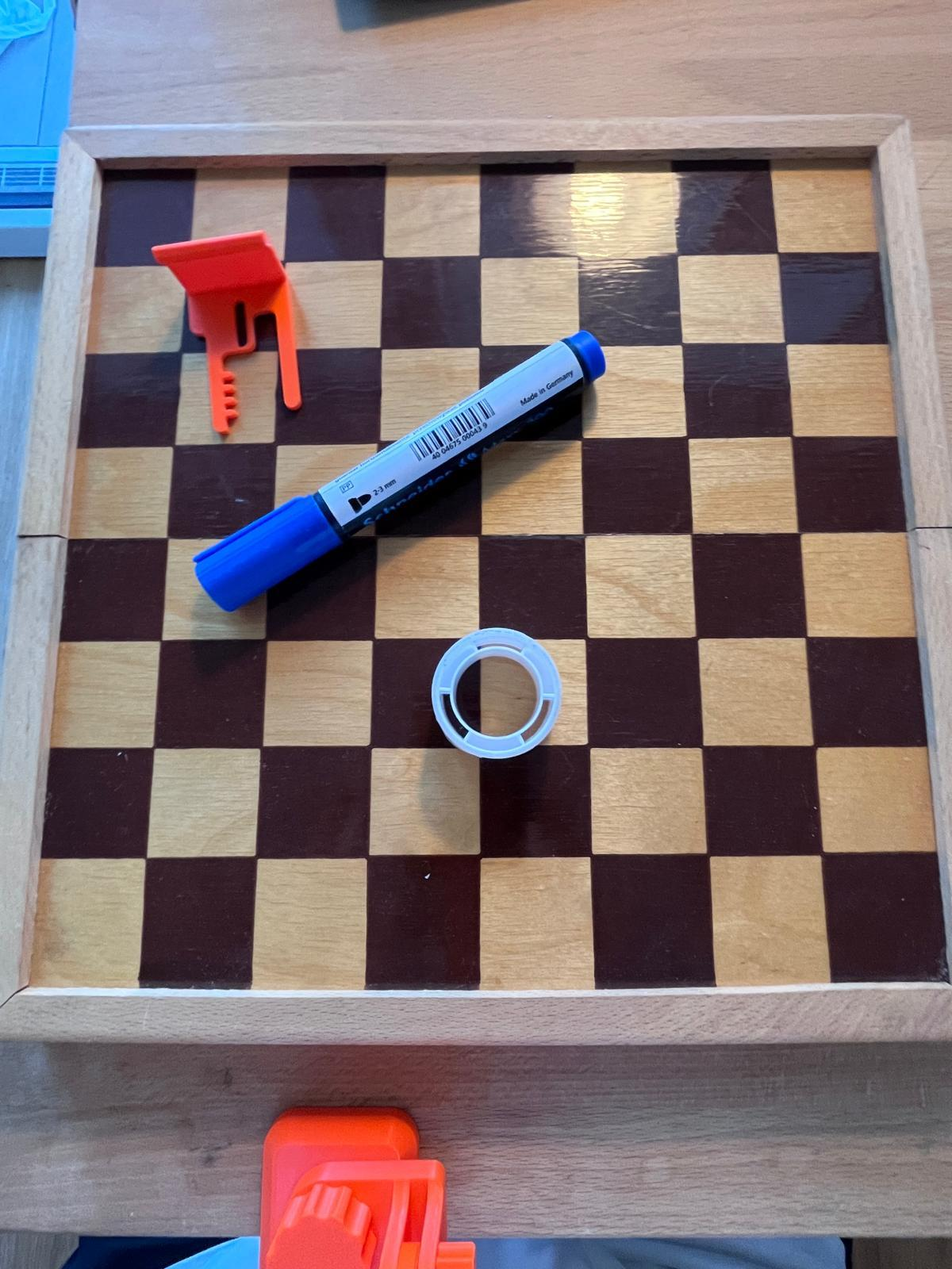clipper: (155, 230, 300, 433)
marker: (187, 322, 608, 617)
tape: (428, 628, 574, 757)
